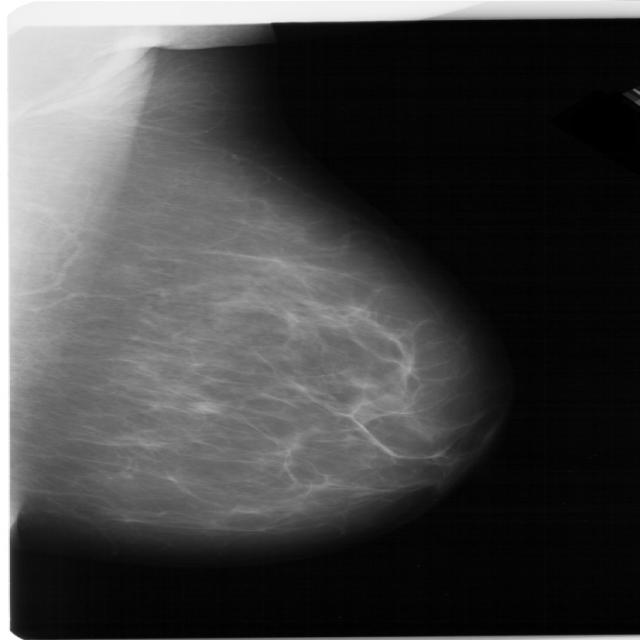tumour: (191, 400, 226, 414)
